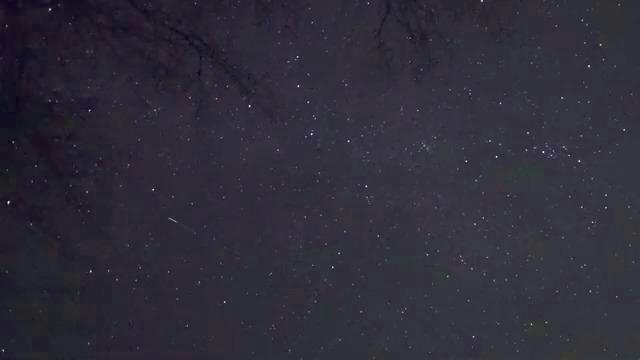meteorite: (148, 214, 205, 231)
